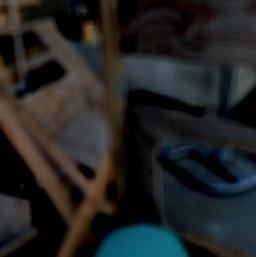algae: (88, 220, 195, 257)
